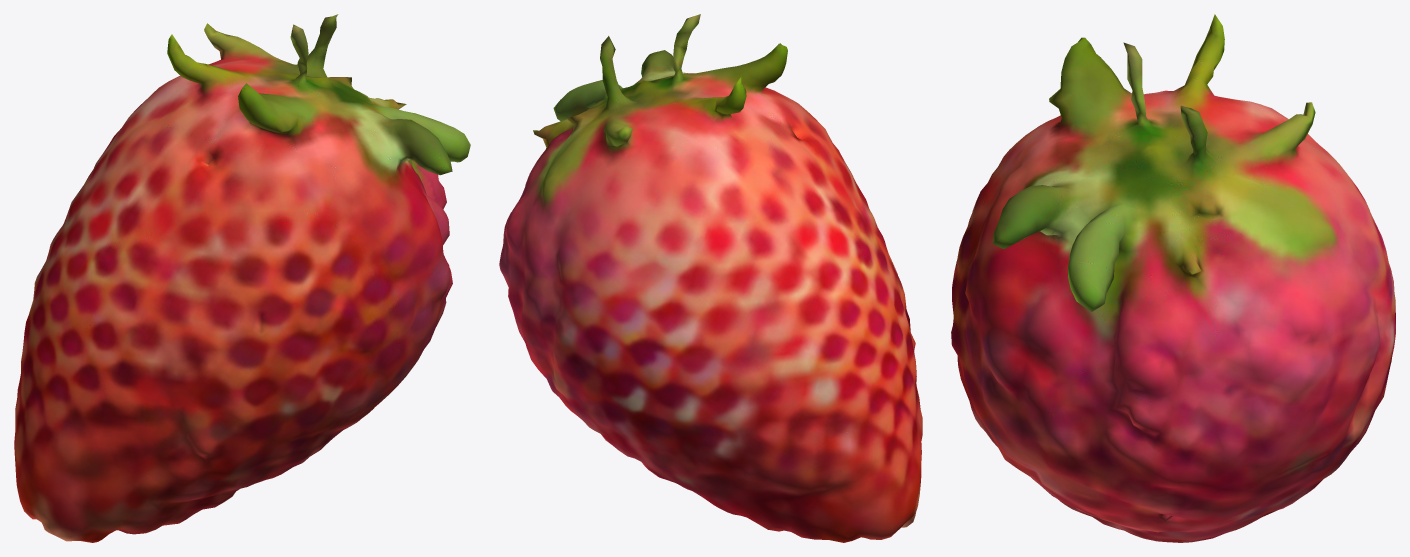
File: strawberry.glb
The picture shows the model from 3 angles, left to right: view 1: azimuth 30°, elevation 25°; view 2: azimuth 150°, elevation 25°; view 3: azimuth 270°, elevation 25°; orthographic projection. The views are drawn at different scales.
Parts seen in each view (by area): view 1: Mesh1; view 2: Mesh1; view 3: Mesh1.
Part boxes in pixels (left/top/right/bottom): Mesh1: left=14, top=14, right=470, bottom=542; Mesh1: left=499, top=14, right=922, bottom=542; Mesh1: left=951, top=14, right=1395, bottom=542.
Bounding box in the file's own units: 1.08 × 1.2 × 0.8896.
1 material, 1 textured.
